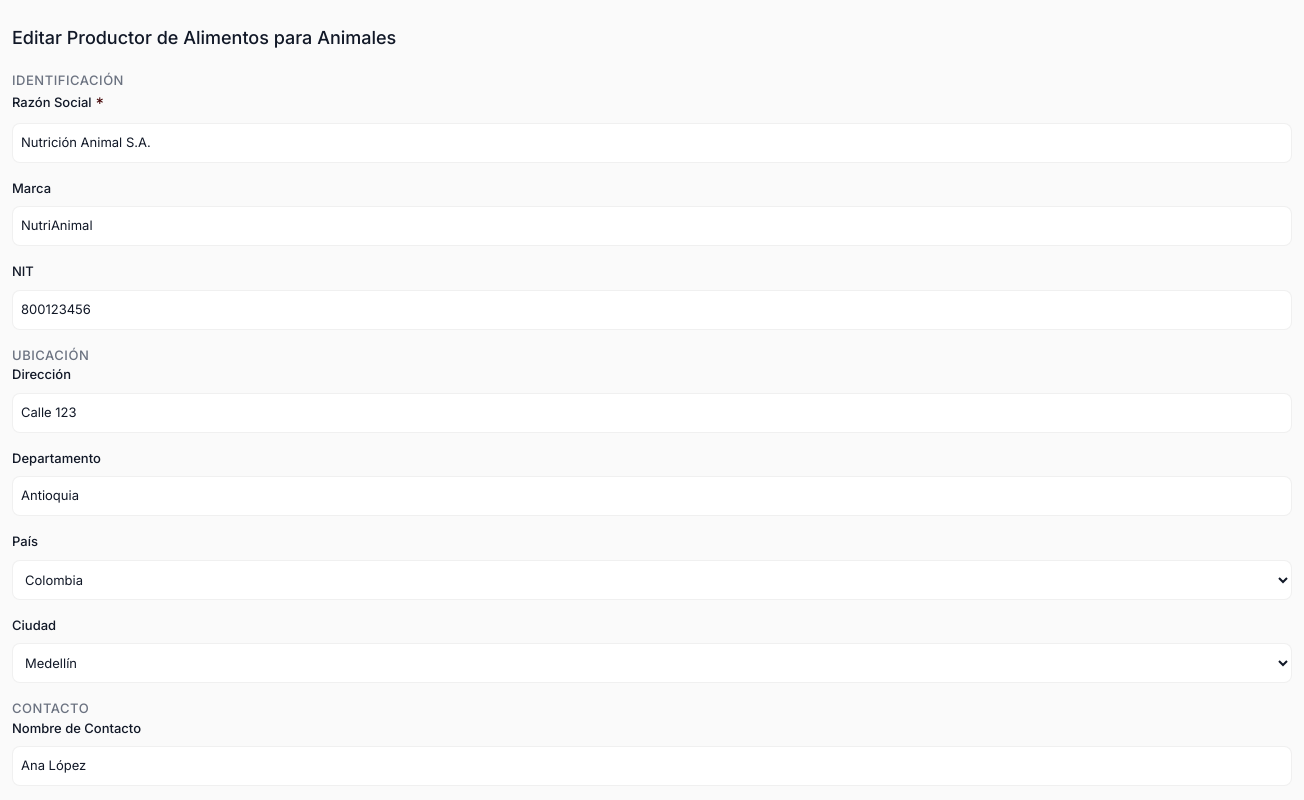
Test: AnimalFeedProducerForm › clears the selected city when the country changes
The width and height of the screenshot is (1304, 800).
Check: the dropdown labelled "Ciudad" shows "Medellín", box [12,643,1292,683]
Select "Venezuela" in the dropdown labelled "País" at (652, 580), box [12,560,1292,600]
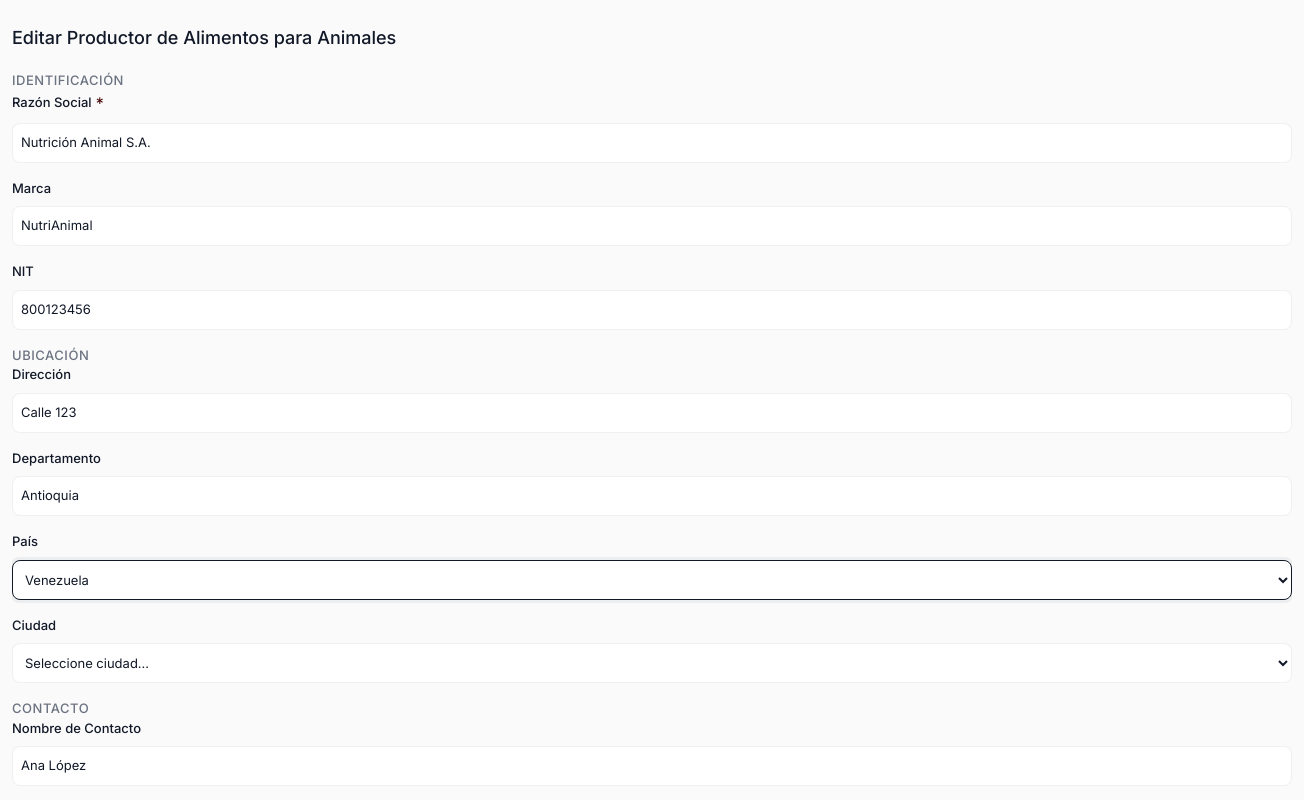
Check: the option "Medellín" is not shown
Check: the dropdown labelled "Ciudad" shows "Seleccione ciudad...", box [12,643,1292,683]
